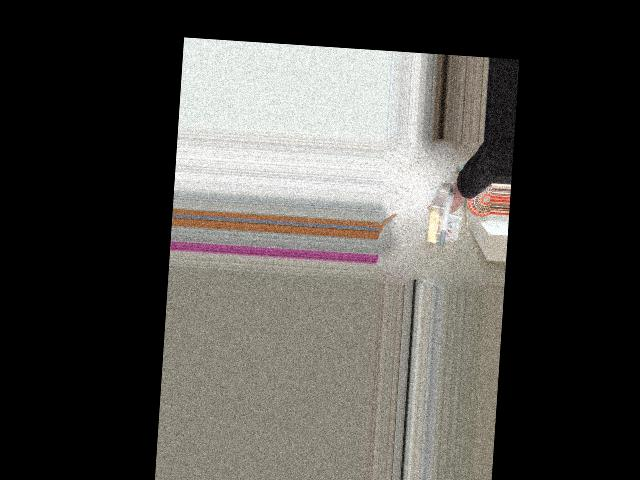cheese: (409, 193, 487, 249)
